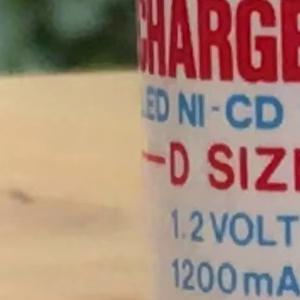NI-CD: (155, 85, 293, 132)
